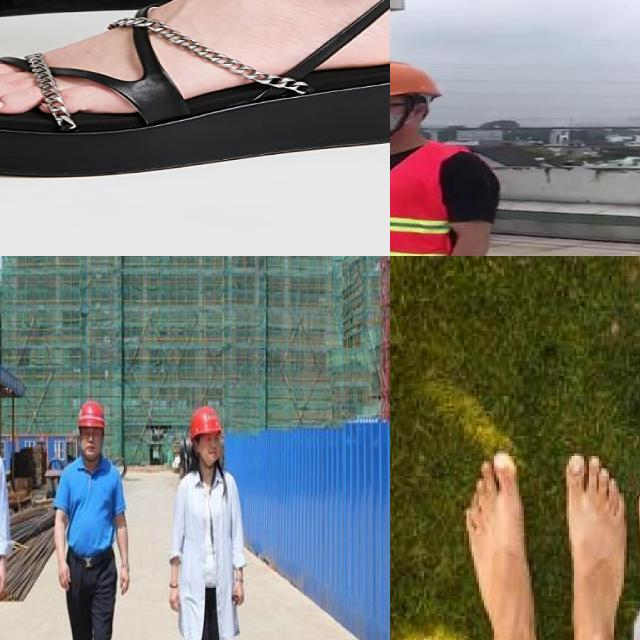Barefoots: (458, 450, 552, 640), (560, 448, 632, 640)
No_Ear-Protection: (190, 419, 226, 471), (76, 419, 110, 465)
Sandals: (0, 0, 390, 178)
head_helmet: (390, 56, 444, 102)
person: (390, 55, 509, 256)
vest: (390, 140, 479, 256)
